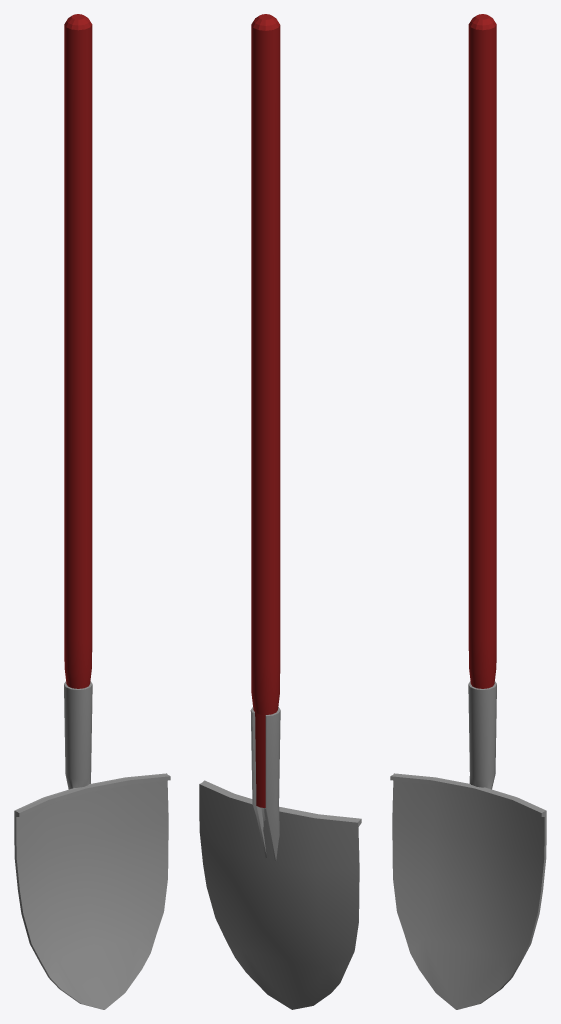
File: Spade.FBX
The picture shows the model from 3 angles, left to right: view 1: azimuth 30°, elevation 25°; view 2: azimuth 150°, elevation 25°; view 3: azimuth 330°, elevation 25°; orthographic projection. The views are drawn at different scales.
Parts seen in each view (by area): view 1: Spade, Handle; view 2: Spade, Handle; view 3: Spade, Handle.
Boxes of the visible parts, left/top/right/bottom form: Spade: left=14, top=773, right=170, bottom=1009; Handle: left=64, top=14, right=92, bottom=789; Spade: left=199, top=780, right=361, bottom=1009; Handle: left=250, top=14, right=280, bottom=860; Spade: left=390, top=773, right=546, bottom=1009; Handle: left=468, top=14, right=496, bottom=789.
Size of the model in its own units: 8.49 by 51.44 by 3.21.
